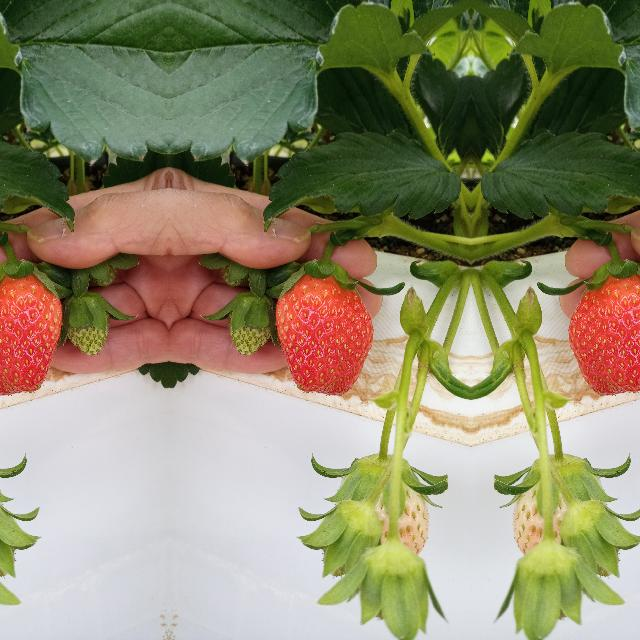Health_100: (274, 272, 372, 396), (568, 271, 640, 396), (0, 271, 62, 396)
Health_25: (65, 290, 118, 360), (218, 290, 270, 360)
Health_50: (335, 448, 439, 568), (502, 448, 606, 568)
